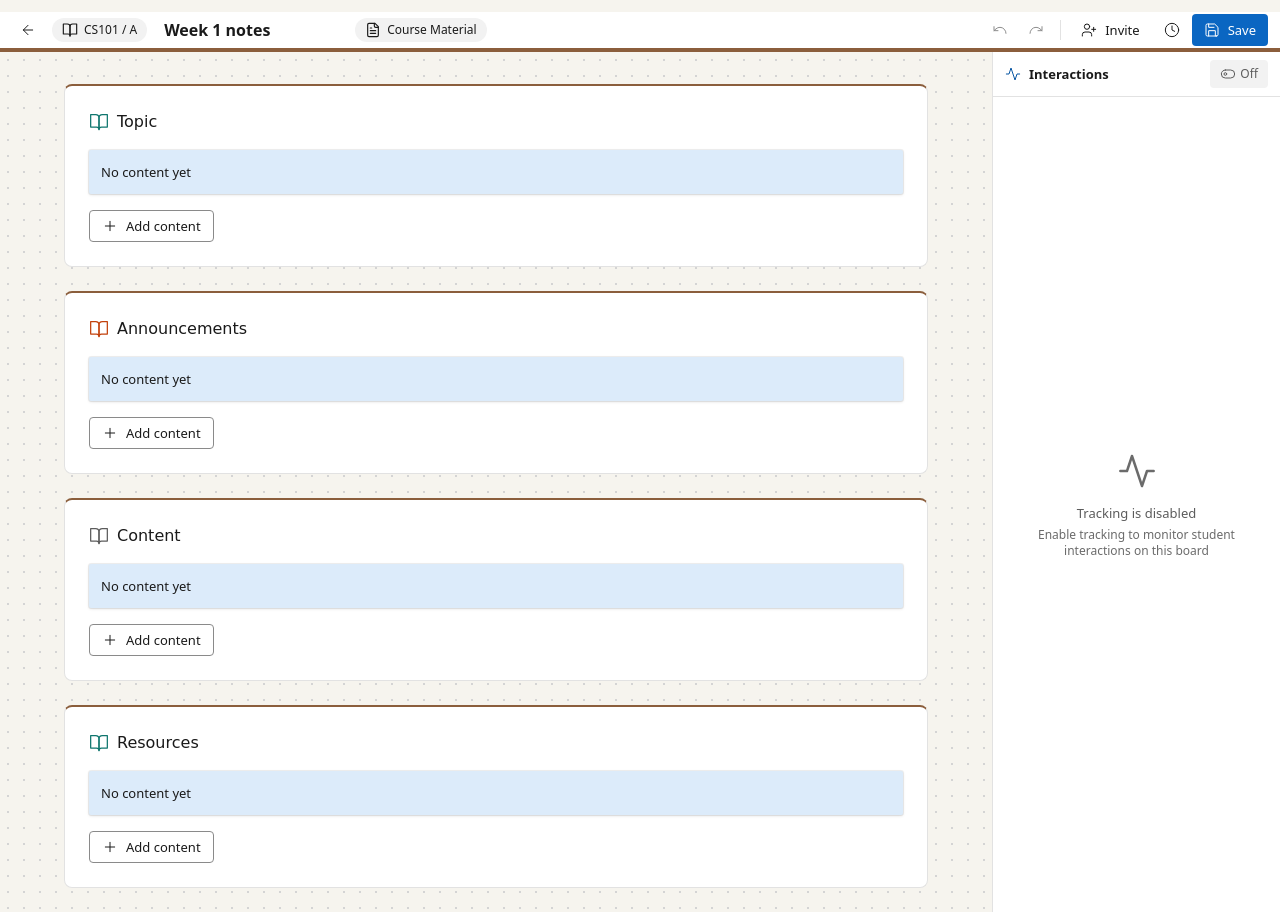
WorkspacePage › a failed save shows Save failed as text
This screenshot has width=1280, height=912.
Expected: the field named "Board name" is shown, [155,14,347,46]
What coordinates should you click on to do the following:
click the button "Save"
I would click on:
 (1230, 30)
Its box is [1192,14,1268,46].
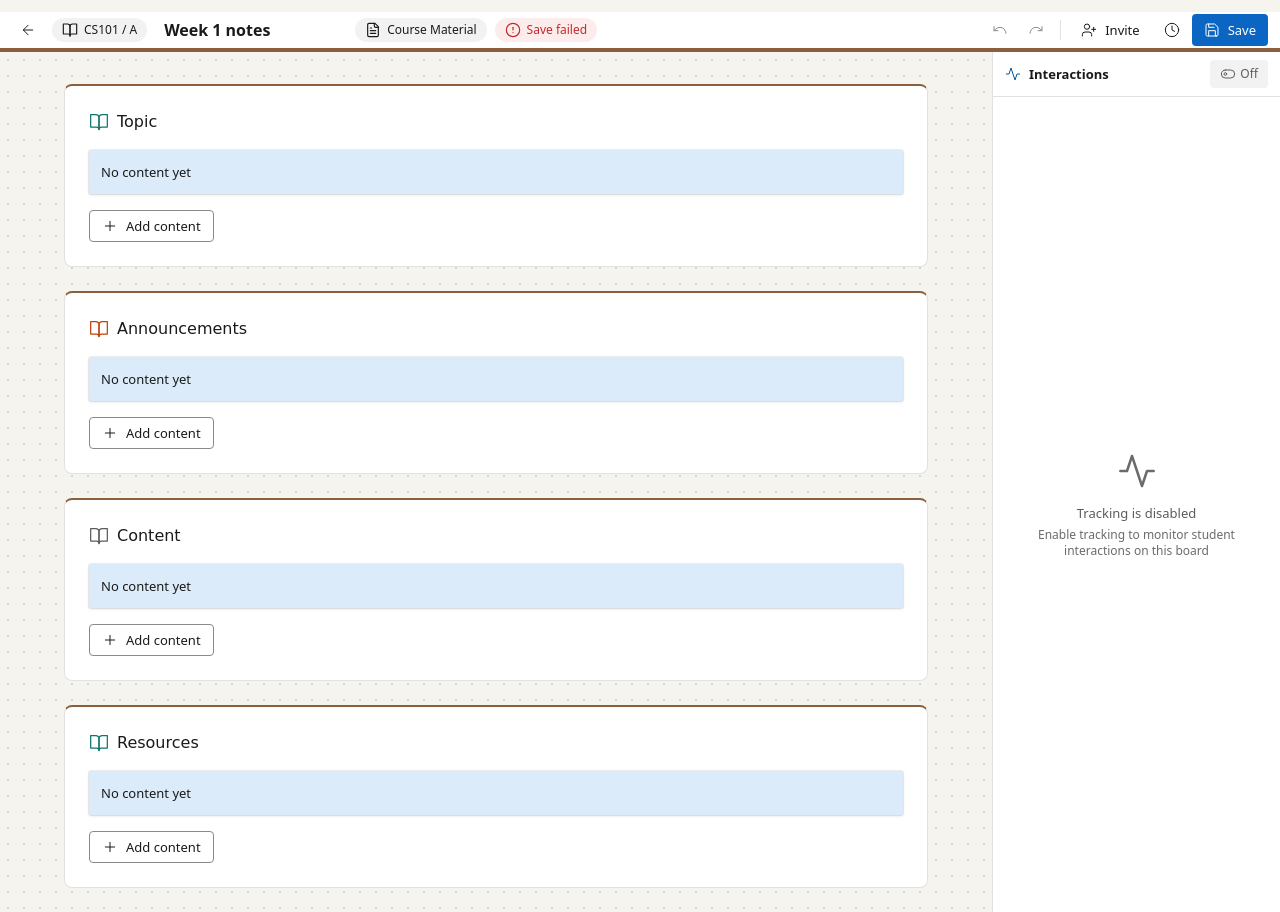
Now the text "Save failed" is shown, box [527,22,587,38]
